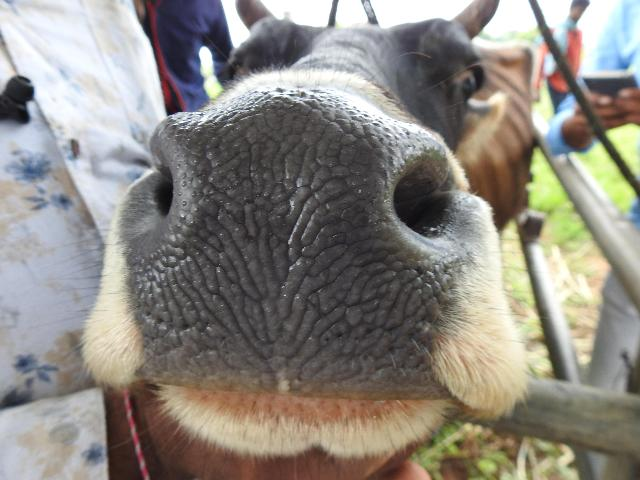Muzzle: (175, 112, 398, 378)
